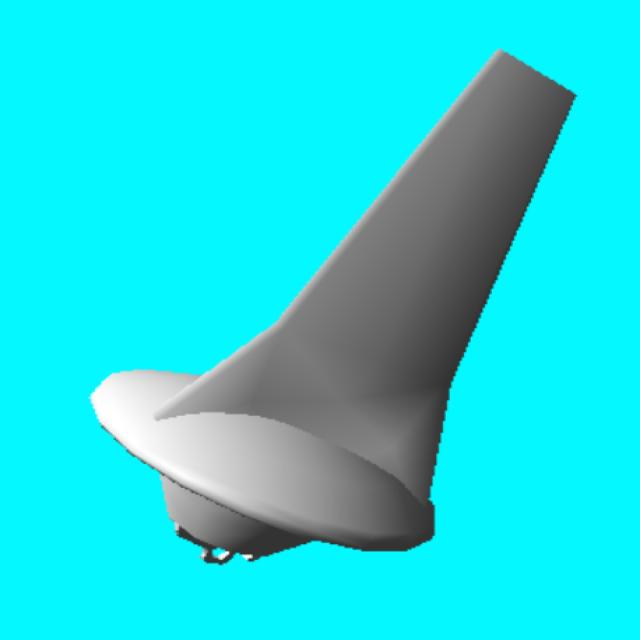WhiteBuoy: (89, 50, 577, 567)
